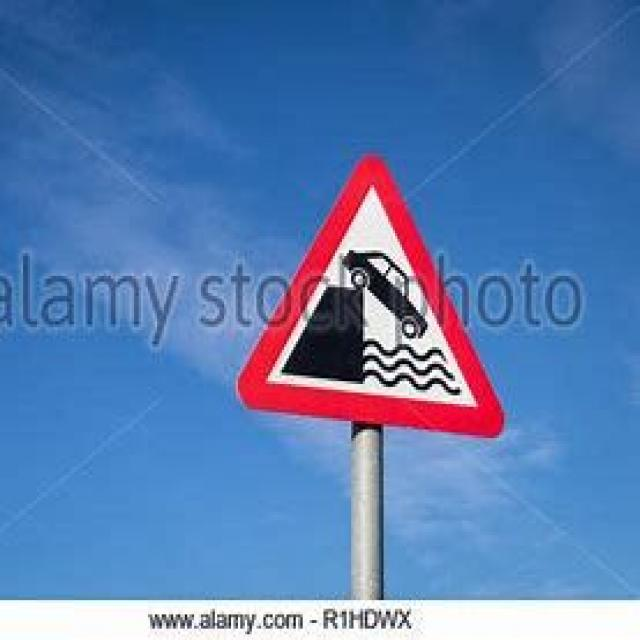QUAY_SIDE_OR_RIVER_BANK: (235, 151, 510, 432)
